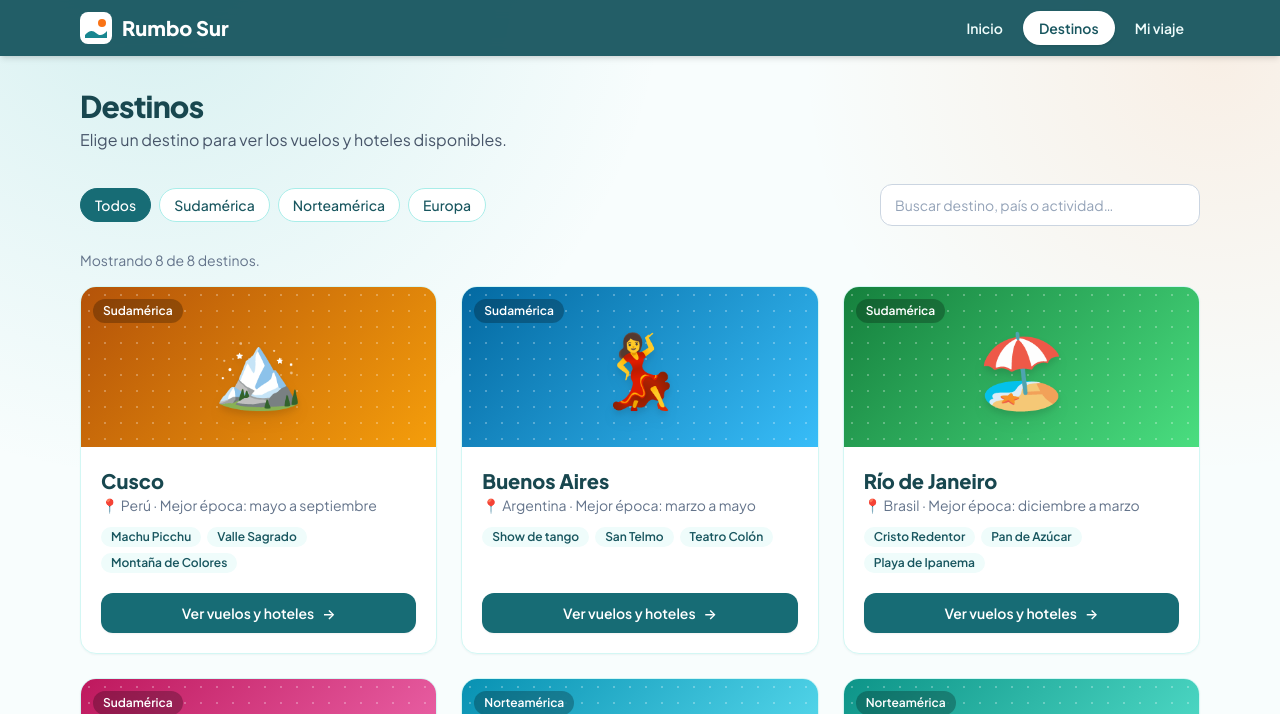
Scenario: API REST mock: destinos › busca por texto y muestra estado vacío si no hay resultados
Expected: the heading "Cusco" is shown, [101,468,164,493]
Type "tango" into the search field labelled "Buscar destino, país o actividad…" at (1040, 205), box [880,184,1200,226]
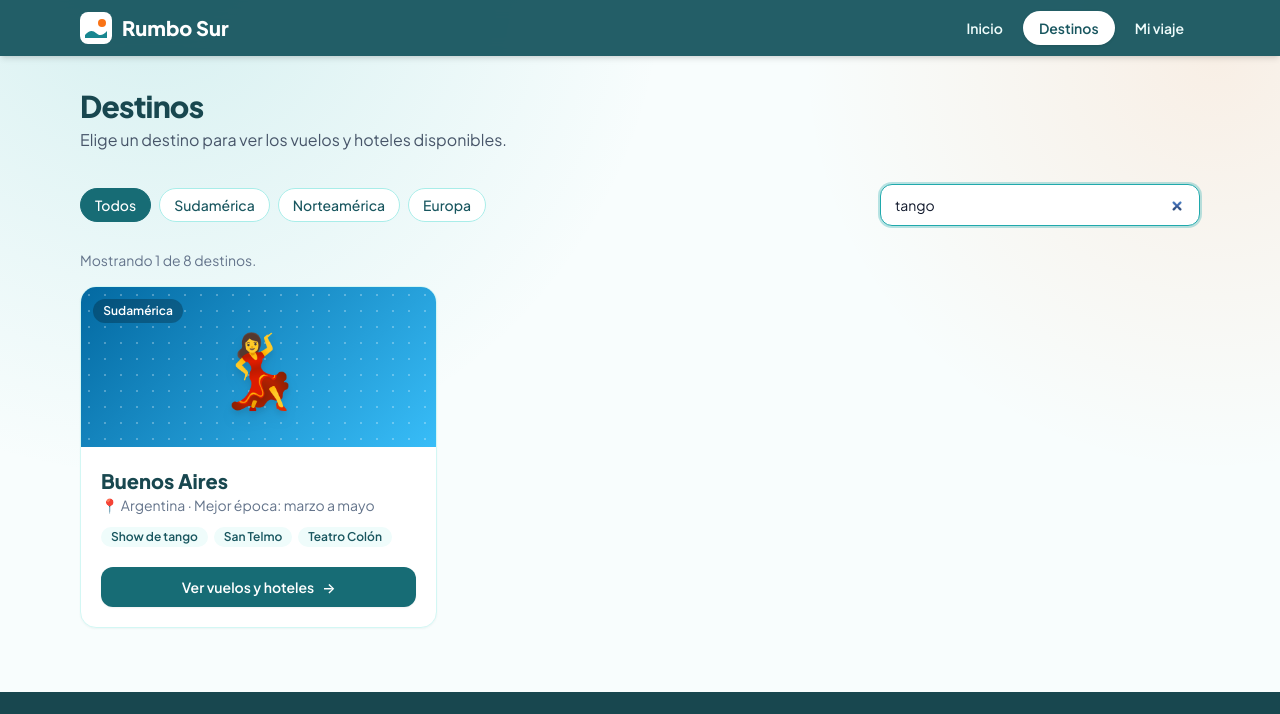
Expected: the heading "Buenos Aires" is shown, [101,468,228,493]
Replace the text in the search field named "Buscar destino" with "zzzz" at (1040, 205), box [880,184,1200,226]
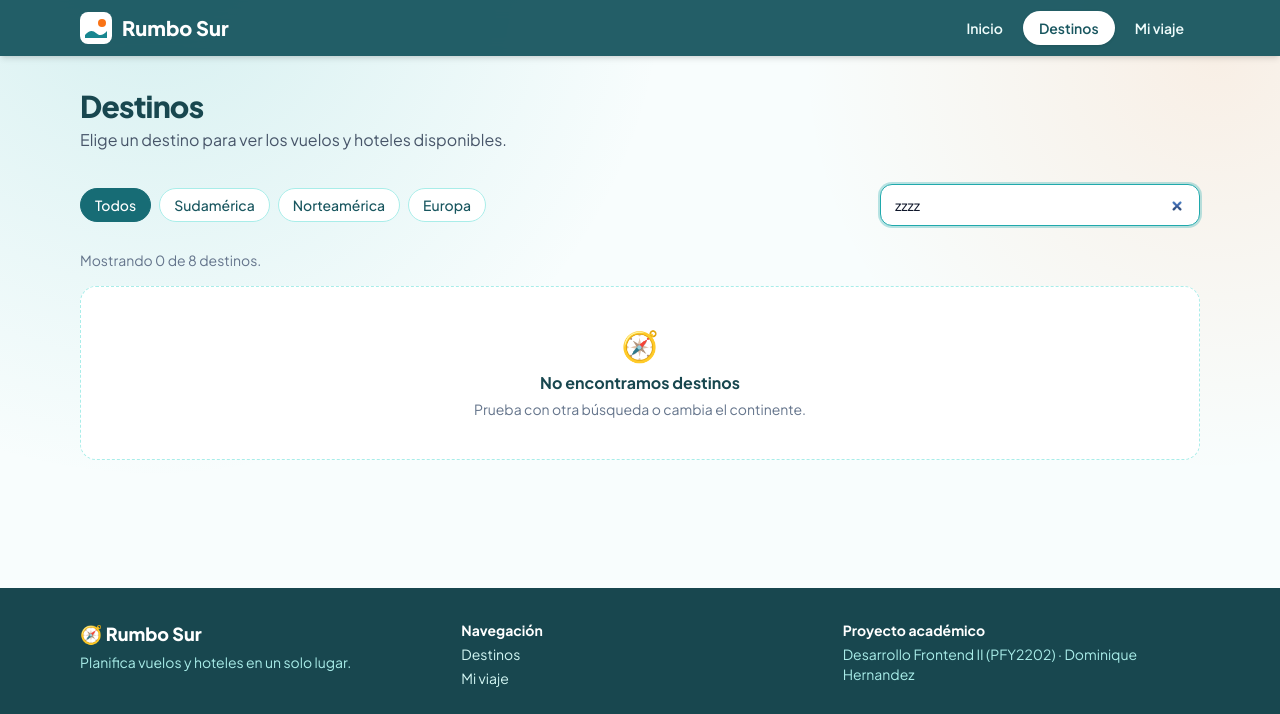
Expected: the heading "No encontramos destinos" is shown, [540,372,740,393]
